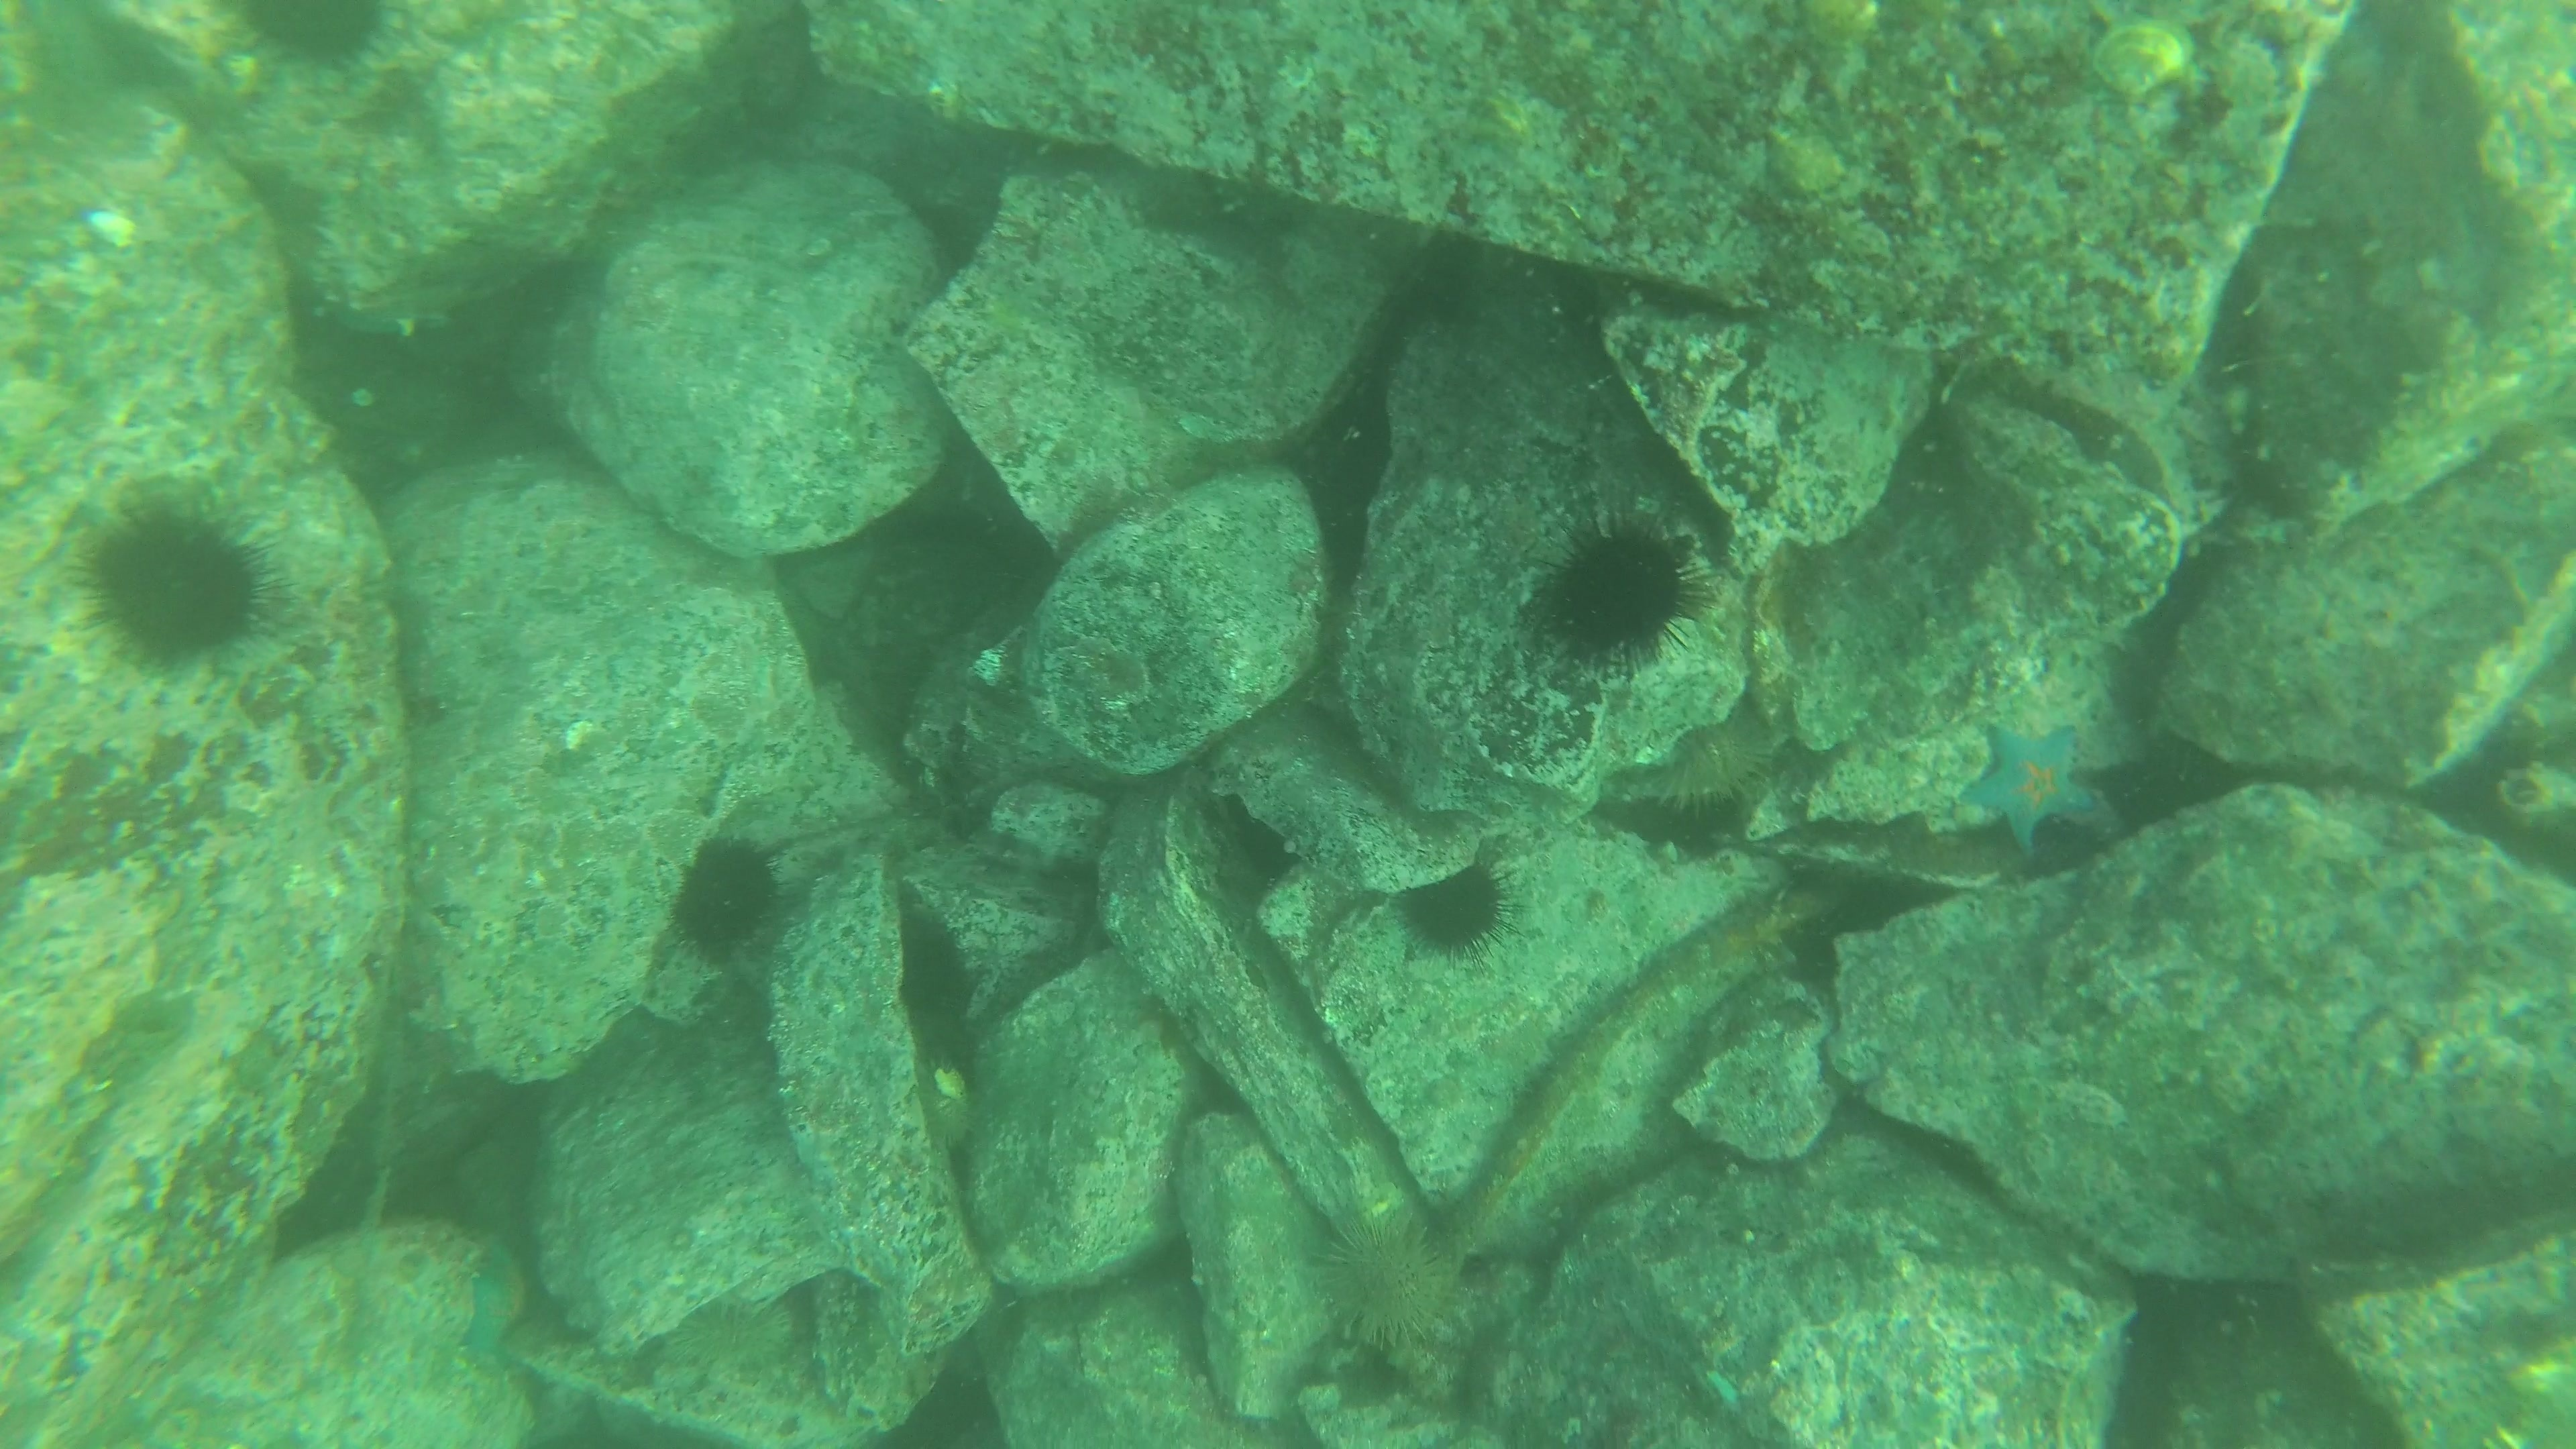echinus: (71, 494, 280, 672), (1529, 510, 1709, 669), (1299, 1198, 1470, 1364), (1606, 702, 1783, 824), (663, 830, 789, 962), (1391, 853, 1518, 962), (228, 2, 403, 74)
starfish: (1951, 713, 2112, 858), (448, 1231, 533, 1373)
